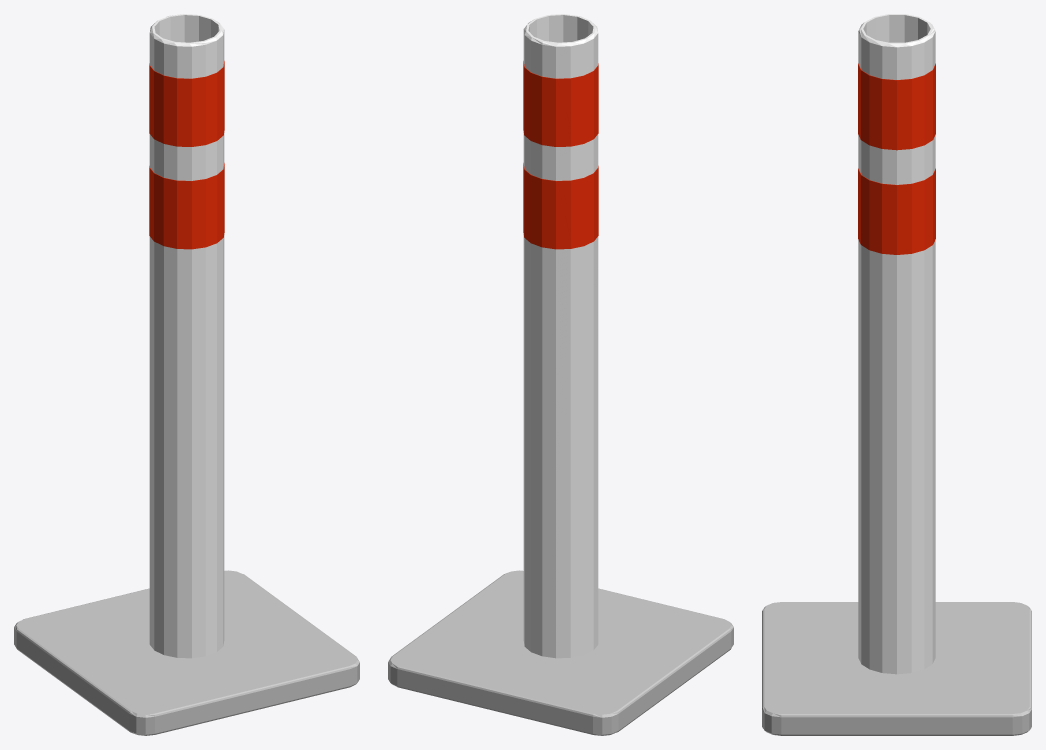
File: traffic corn 2.obj
3 views of the same model, side by side, from view 1: azimuth 30°, elevation 25°; view 2: azimuth 150°, elevation 25°; view 3: azimuth 270°, elevation 25° (orthographic). The views are drawn at different scales.
Parts seen in each view (by area): view 1: pole, base, stripes; view 2: pole, base, stripes; view 3: pole, base, stripes.
Part boxes in pixels (x1,y1,x2,y2): pole: (149,14,224,658); base: (14,570,359,735); stripes: (149,61,224,249); pole: (523,14,598,658); base: (388,570,733,735); stripes: (523,61,598,249); pole: (858,14,935,674); base: (762,602,1031,735); stripes: (858,63,935,254).
Size of the model in its own units: 14 by 37.25 by 14.
